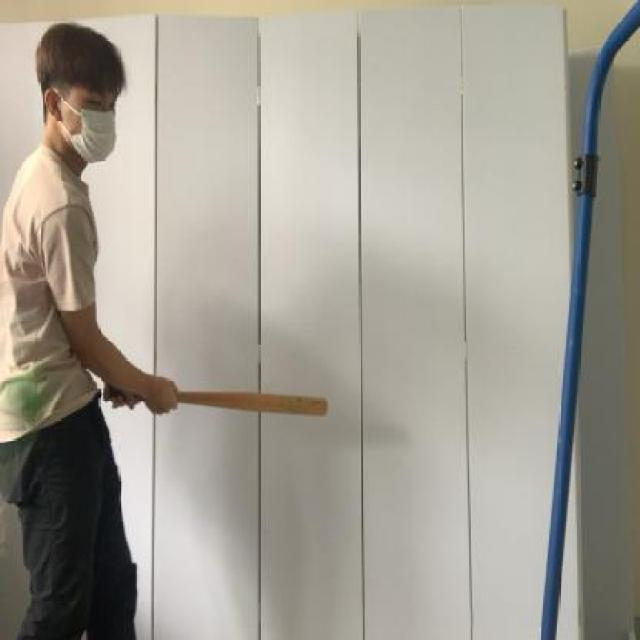baseball: (0, 360, 58, 446)
